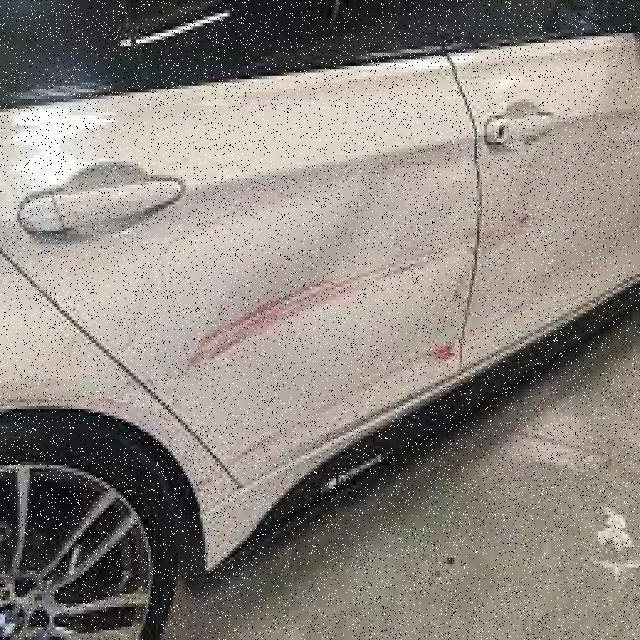doorouter-dent: (19, 82, 460, 419), (467, 36, 633, 363)
